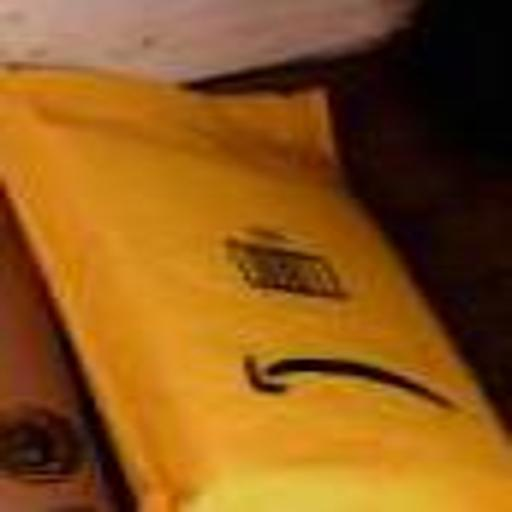Amazon: (14, 72, 505, 510)
